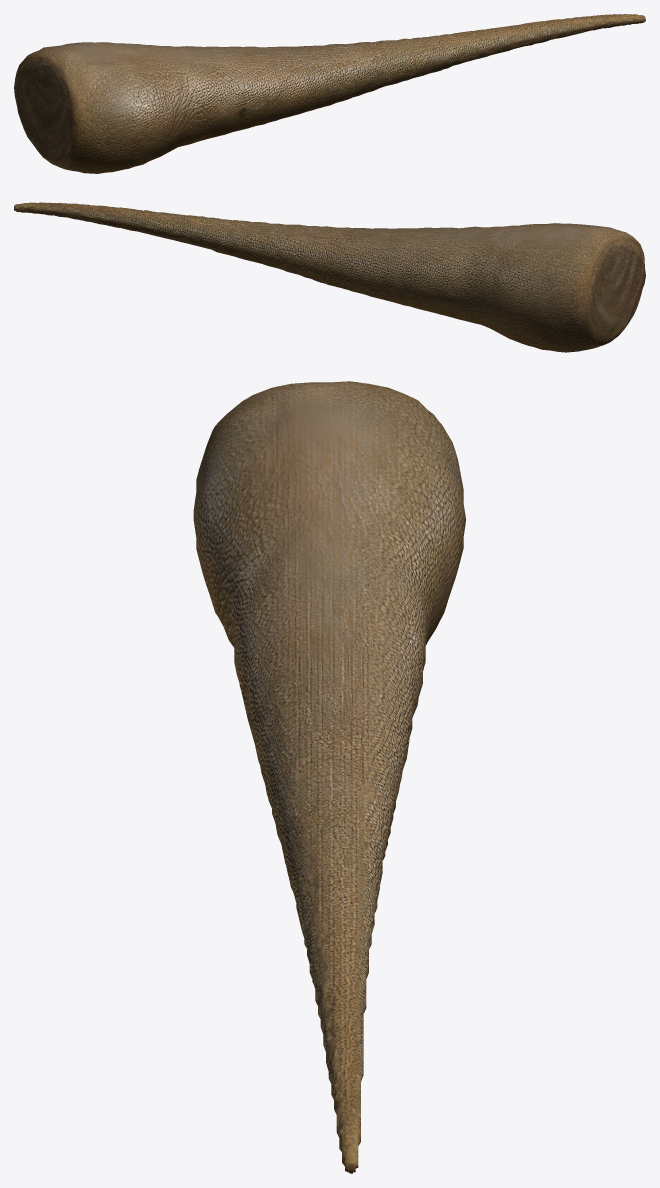
File: tail.glb
3 renders of one model, top to bottom at view 1: azimuth 30°, elevation 25°; view 2: azimuth 150°, elevation 25°; view 3: azimuth 270°, elevation 25°, orthographic. The views are drawn at different scales.
Visible parts, largest first — view 1: tripo_node_d4c9b070-b6cb-451e-ac4c-2b29cc5d2cbe; view 2: tripo_node_d4c9b070-b6cb-451e-ac4c-2b29cc5d2cbe; view 3: tripo_node_d4c9b070-b6cb-451e-ac4c-2b29cc5d2cbe.
Boxes of the visible parts, x1,y1,x2,y2 form: tripo_node_d4c9b070-b6cb-451e-ac4c-2b29cc5d2cbe: (14,14,645,173); tripo_node_d4c9b070-b6cb-451e-ac4c-2b29cc5d2cbe: (14,202,645,352); tripo_node_d4c9b070-b6cb-451e-ac4c-2b29cc5d2cbe: (193,381,465,1173).
Bounding box in the file's own units: 0.998 × 0.1934 × 0.1973.
Materials: 1 (1 with a texture image).
